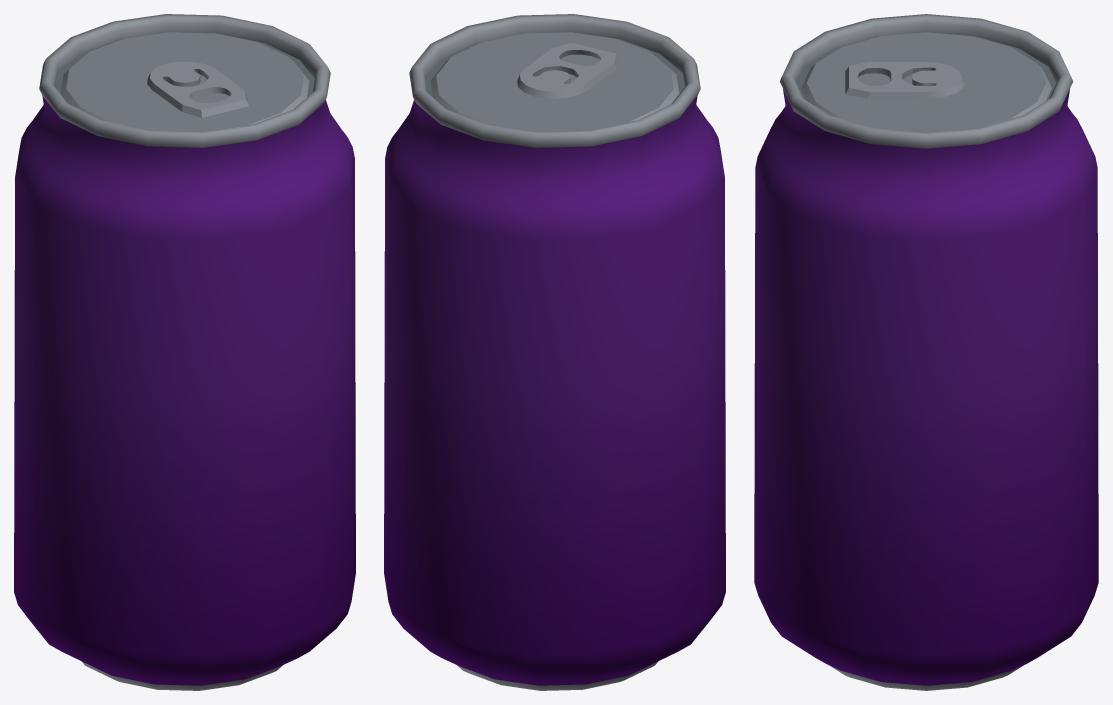
Rendered from Soda_Can_04.fbx.
3 renders of one model, left to right at view 1: azimuth 30°, elevation 25°; view 2: azimuth 150°, elevation 25°; view 3: azimuth 270°, elevation 25°, orthographic.
Visible parts, largest first — view 1: Soda_Can_04; view 2: Soda_Can_04; view 3: Soda_Can_04.
Boxes of the visible parts, bbox=[...] form: Soda_Can_04: bbox=[14, 14, 355, 690]; Soda_Can_04: bbox=[384, 14, 725, 690]; Soda_Can_04: bbox=[754, 14, 1098, 690].
Size of the model in its own units: 74.58 by 74.58 by 136.
